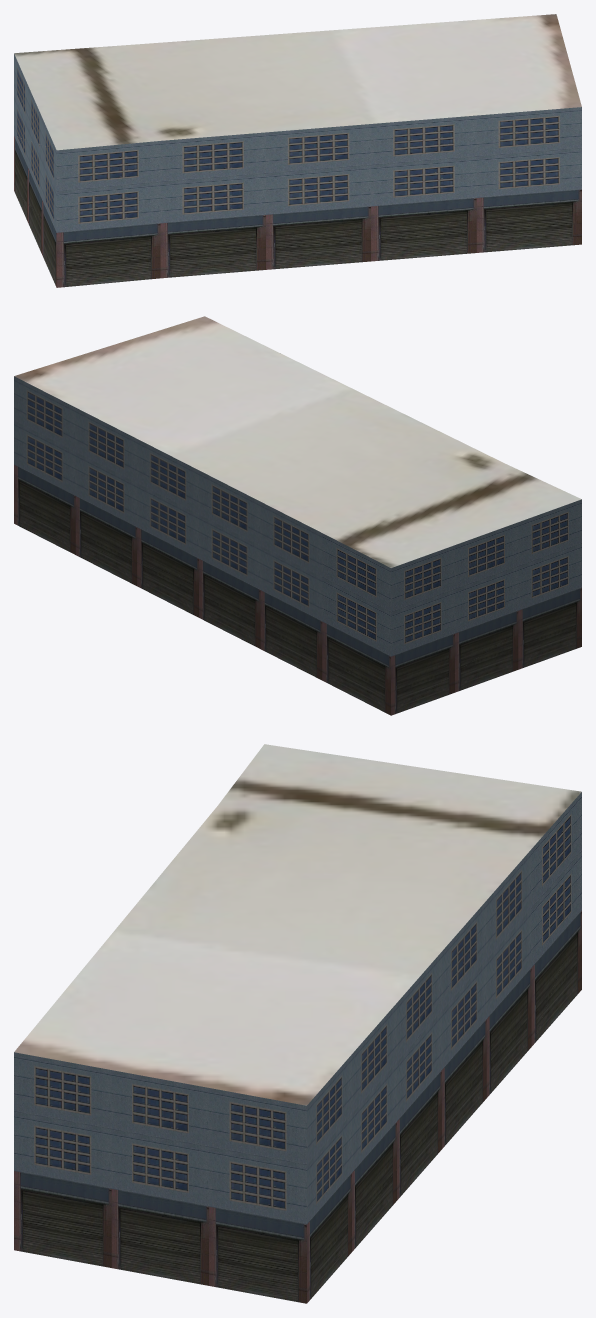
Rendered from T_1T6QK4PAMT.dae.
3 renders of one model, top to bottom at view 1: azimuth 30°, elevation 25°; view 2: azimuth 150°, elevation 25°; view 3: azimuth 270°, elevation 25°, orthographic. The views are drawn at different scales.
Visible parts, largest first — view 1: SketchUp (×7); view 2: SketchUp (×7); view 3: SketchUp (×7).
Part boxes in pixels (box(x1,y1,x2,y2)): SketchUp (×7): box(14, 14, 581, 287); SketchUp (×7): box(14, 316, 581, 715); SketchUp (×7): box(14, 744, 581, 1303).
Size of the model in its own units: 32.31 by 21.45 by 8.25.
Materials: 3 (3 with a texture image).
